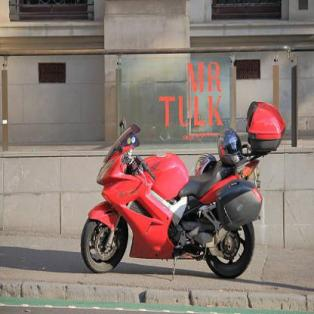Motocicleta: (77, 89, 286, 290)
